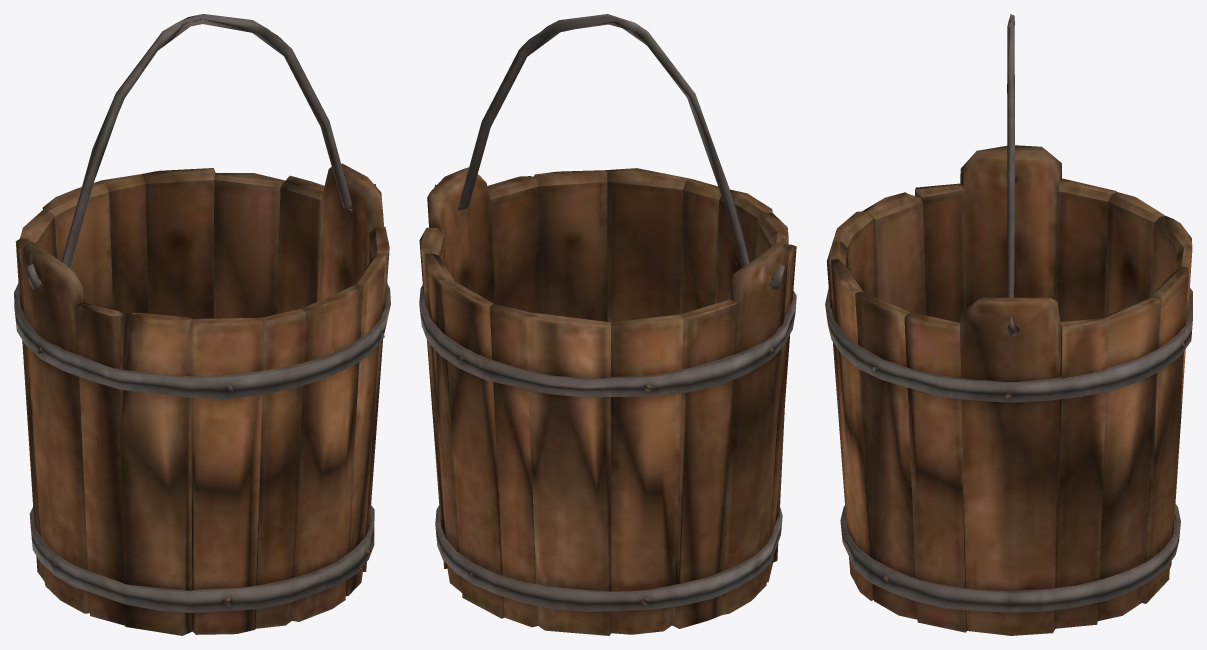
The model's file is wooden_bucket_01.gltf.
3 views of the same model, side by side, from view 1: azimuth 30°, elevation 25°; view 2: azimuth 150°, elevation 25°; view 3: azimuth 270°, elevation 25° (orthographic).
Visible parts, largest first — view 1: wooden_bucket_01, wooden_bucket_01_handle; view 2: wooden_bucket_01, wooden_bucket_01_handle; view 3: wooden_bucket_01, wooden_bucket_01_handle.
Part boxes in pixels (x1,y1,x2,y2): wooden_bucket_01: (14,163,390,635); wooden_bucket_01_handle: (27,14,376,289); wooden_bucket_01: (419,167,796,635); wooden_bucket_01_handle: (434,14,784,289); wooden_bucket_01: (825,145,1192,635); wooden_bucket_01_handle: (1006,14,1015,336).
Bounding box in the file's own units: 0.3647 × 0.5493 × 0.338.
1 material, 1 textured.
